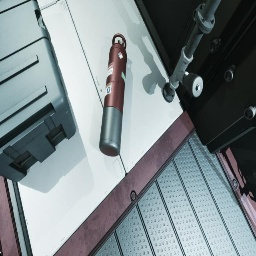NitrogenTank ,: (99, 33, 127, 157)
